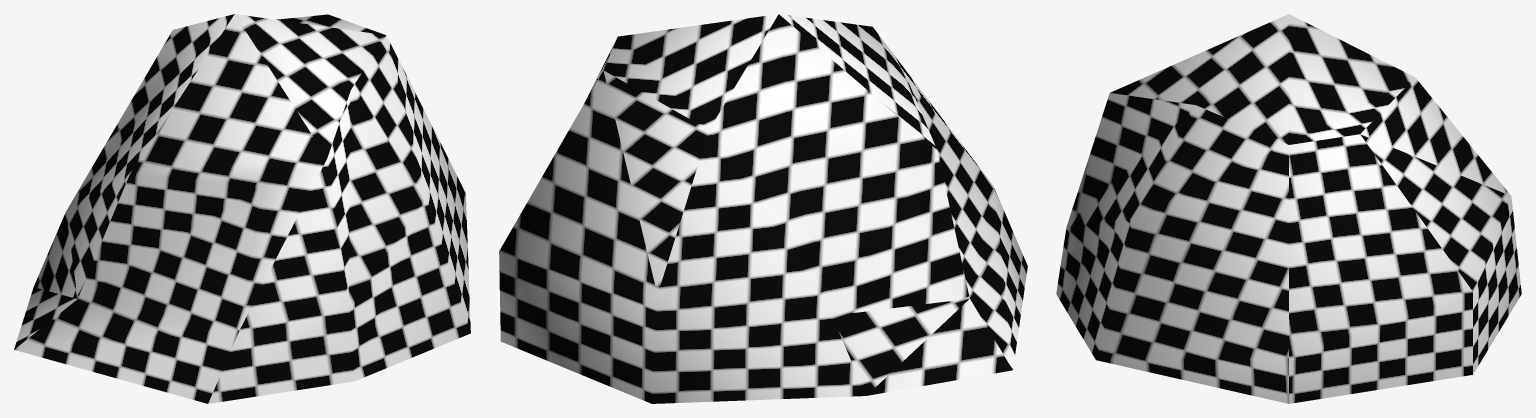
Rendered from nast17.dae.
3 views of the same model, side by side, from view 1: azimuth 30°, elevation 25°; view 2: azimuth 150°, elevation 25°; view 3: azimuth 270°, elevation 25° (orthographic). The views are drawn at different scales.
Parts seen in each view (by area): view 1: stone01; view 2: stone01; view 3: stone01.
Boxes of the visible parts, x1,y1,x2,y2 form: stone01: (14, 14, 470, 403); stone01: (499, 14, 1027, 403); stone01: (1056, 14, 1521, 403).
Bounding box in the file's own units: 0.9996 × 0.9009 × 0.596.
Materials: 1 (1 with a texture image).
